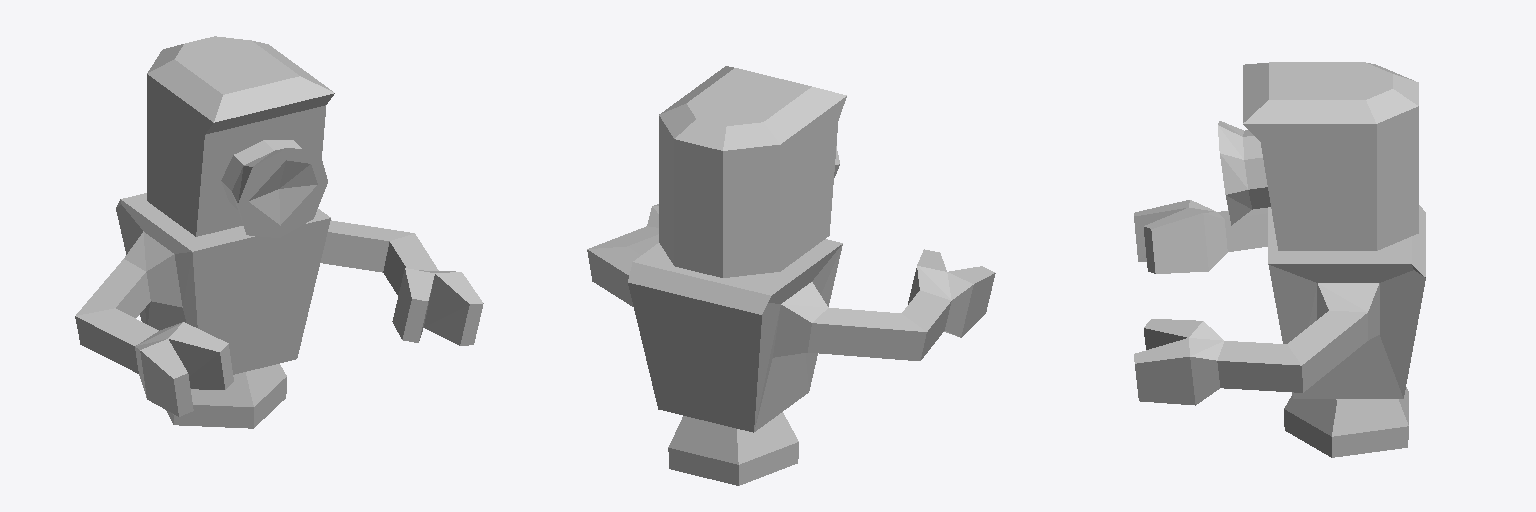
Rendered from robots.obj.
The picture shows the model from 3 angles: view 1: azimuth 30°, elevation 25°; view 2: azimuth 150°, elevation 25°; view 3: azimuth 270°, elevation 25°; orthographic projection.
Visible parts, largest first — view 1: body, head, engine; view 2: body, head, engine; view 3: body, head, engine.
Boxes of the visible parts, box(x1,y1,x2,y2) form: body: box(75, 193, 483, 416); head: box(147, 36, 334, 237); engine: box(166, 364, 286, 428); body: box(587, 204, 995, 432); head: box(659, 66, 846, 277); engine: box(668, 412, 798, 485); body: box(1134, 200, 1425, 405); head: box(1218, 62, 1418, 250); engine: box(1284, 387, 1408, 457).
Size of the model in its own units: 4.9 by 4.81 by 3.65.